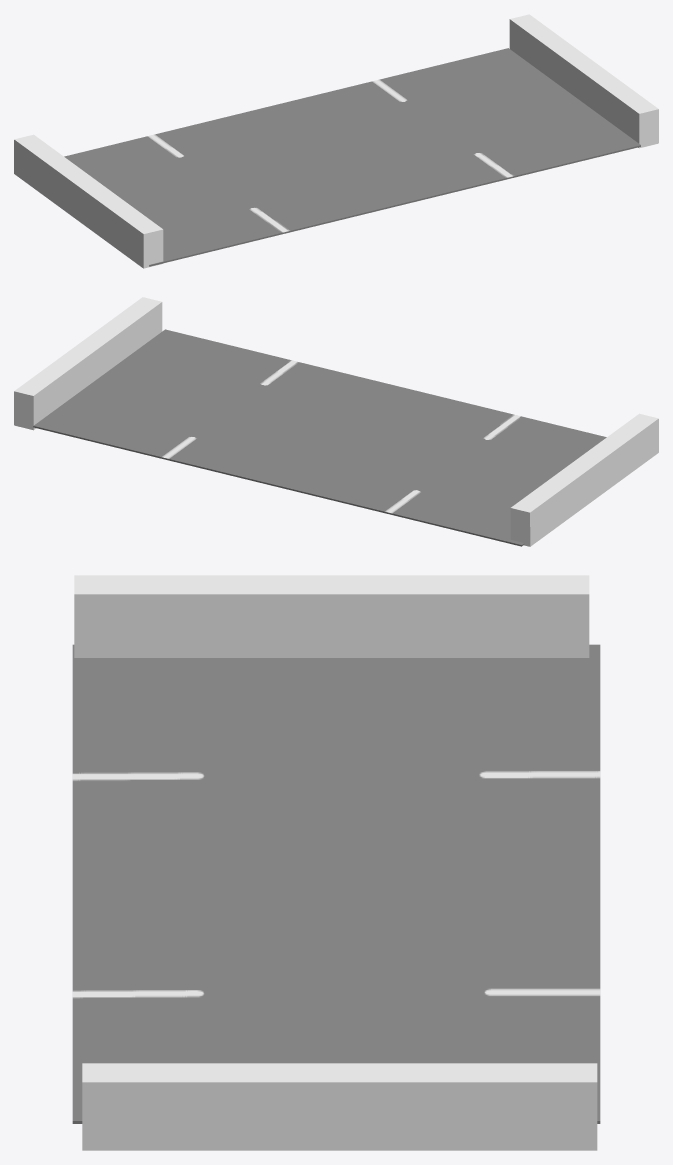
File: road.glb
3 renders of one model, top to bottom at view 1: azimuth 30°, elevation 25°; view 2: azimuth 150°, elevation 25°; view 3: azimuth 270°, elevation 25°, orthographic. The views are drawn at different scales.
Parts seen in each view (by area): view 1: MeshInstance3D, MeshInstance3D2, MeshInstance3D3; view 2: MeshInstance3D, MeshInstance3D2, MeshInstance3D3; view 3: MeshInstance3D, MeshInstance3D3, MeshInstance3D2.
Part boxes in pixels (box(x1,y1,x2,y2)): MeshInstance3D: box(64, 48, 640, 266); MeshInstance3D2: box(14, 134, 163, 268); MeshInstance3D3: box(509, 14, 658, 148); MeshInstance3D: box(33, 329, 606, 546); MeshInstance3D2: box(510, 413, 658, 546); MeshInstance3D3: box(14, 297, 162, 430); MeshInstance3D: box(72, 644, 600, 1123); MeshInstance3D3: box(82, 1063, 597, 1150); MeshInstance3D2: box(74, 575, 589, 657).
Bounding box in the file's own units: 70.07 × 4.79 × 31.11.
Materials: 3 (1 with a texture image).
